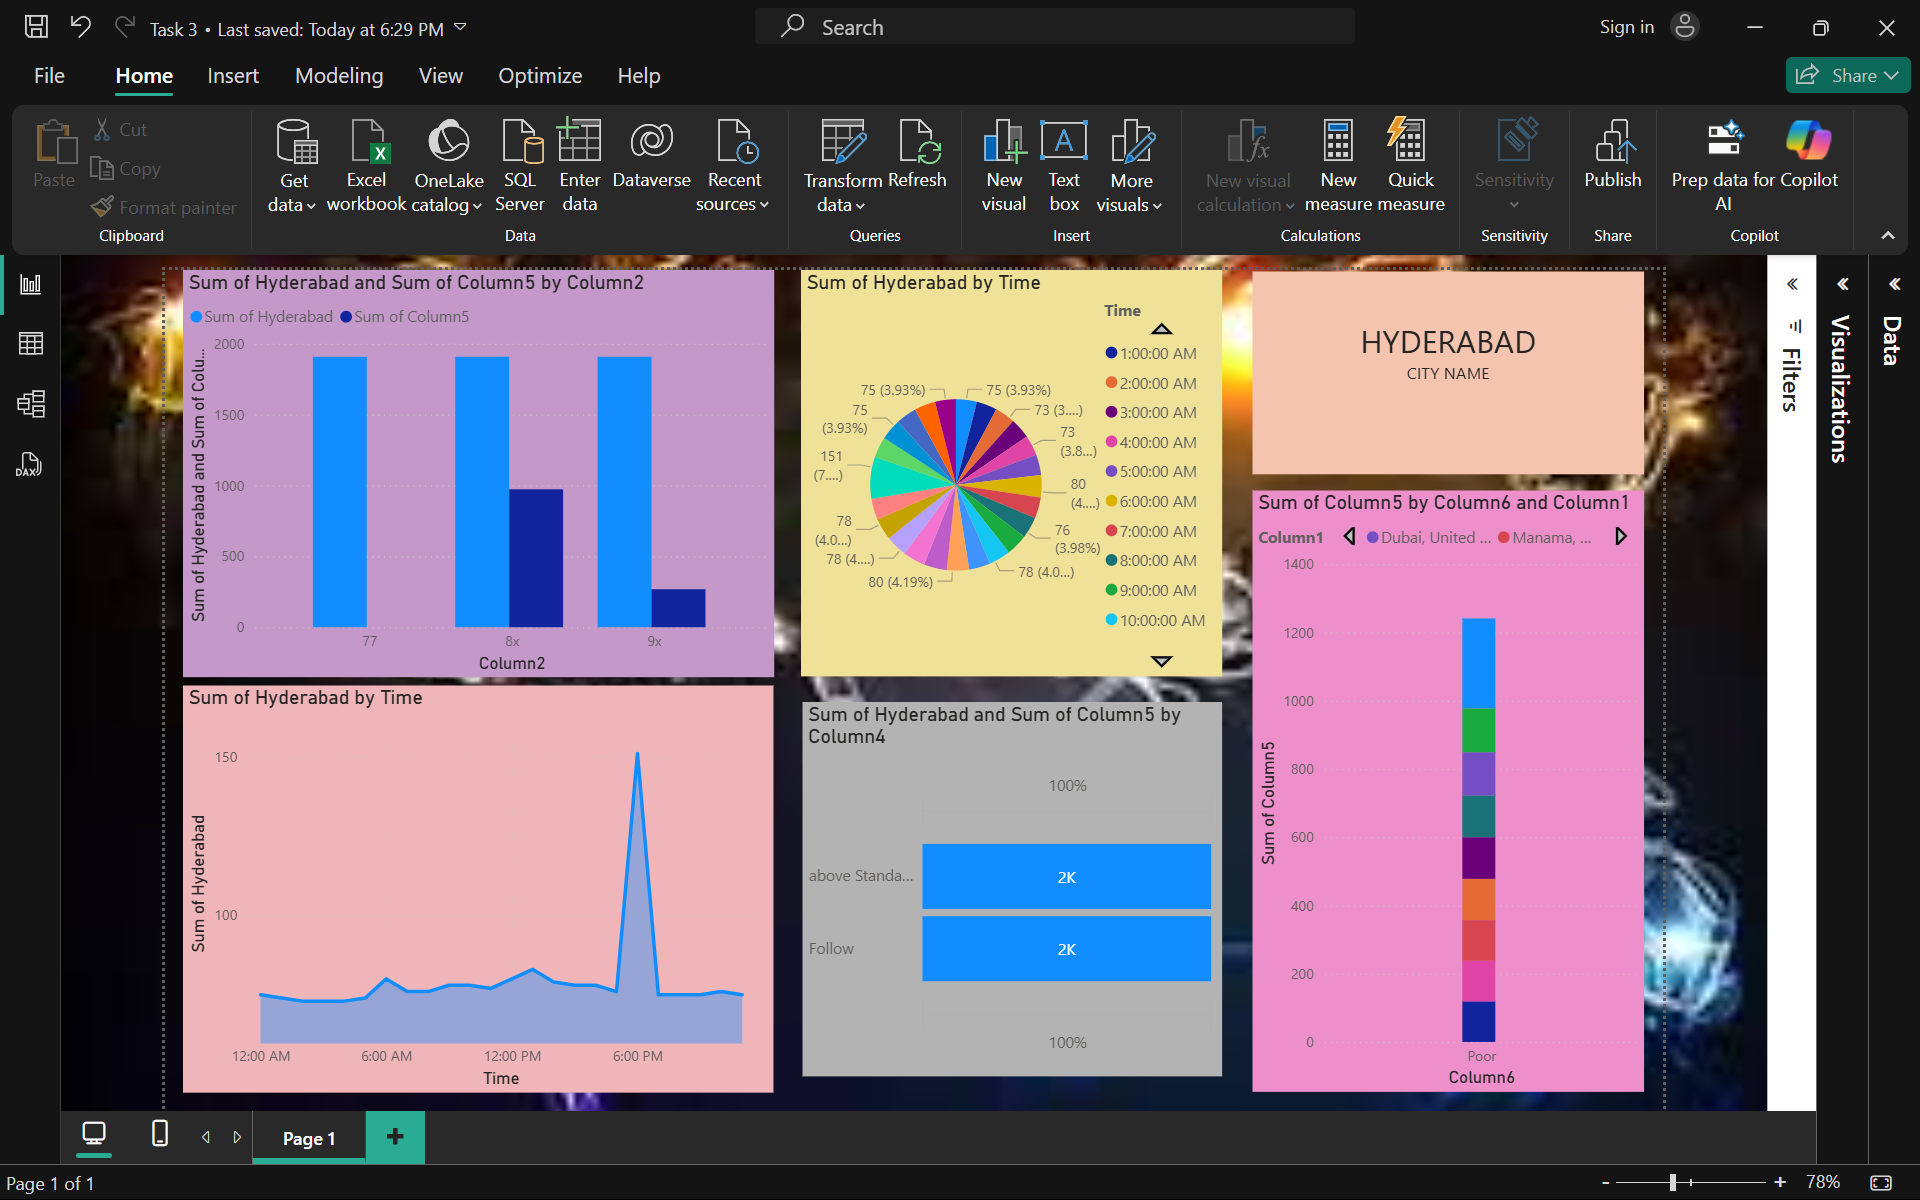

Layout of this report page (visuals, bound fields, positions):
{"tool":"powerbi","page":{"name":"Page 1","canvas":[1280,720],"ordinal":0},"visuals":[{"type":"funnel","fields":{"Category":["Table 3.Column4"],"Y":["Sum(Table 1.Hyderabad)"]},"box":[544.9,369.3,359,320.2],"z":0},{"type":"areaChart","fields":{"Category":["Table 1.Time"],"Y":["Sum(Table 1.Hyderabad)"]},"box":[15.1,355.3,504.6,347.7],"z":1},{"type":"ribbonChart","fields":{"Category":["Table 3.Column6"],"Series":["Table 3.Column1"],"Y":["Sum(Table 3.Column5)"]},"box":[929.8,189,334.5,514],"z":2},{"type":"lineClusteredColumnComboChart","fields":{"Y":["Sum(Table 1.Hyderabad)","Sum(Table 3.Column5)"],"Category":["Table 3.Column2"]},"box":[15,0,505,348],"z":3},{"type":"pieChart","fields":{"Category":["Table 1.Time"],"Y":["Sum(Table 1.Hyderabad)"]},"box":[543.6,0,360.2,347.3],"z":4},{"type":"textbox","box":[929.5,1.3,334.6,173.1],"z":5}]}

Visuals, with their boxes on the page's 1280x720 design canvas (x1, y1, x2, y2). These are canvas units, not pixel positions in the 1920x1200 screenshot, which may show the page scaled, cropped or inside an application window:
funnel - Table 3.Column4 x Sum(Table 1.Hyderabad): locate(545, 369, 904, 690)
areaChart - Table 1.Time x Sum(Table 1.Hyderabad): locate(15, 355, 520, 703)
ribbonChart - Table 3.Column6 x Table 3.Column1: locate(930, 189, 1264, 703)
lineClusteredColumnComboChart - Sum(Table 1.Hyderabad) x Sum(Table 3.Column5): locate(15, 0, 520, 348)
pieChart - Table 1.Time x Sum(Table 1.Hyderabad): locate(544, 0, 904, 347)
textbox: locate(930, 1, 1264, 174)
